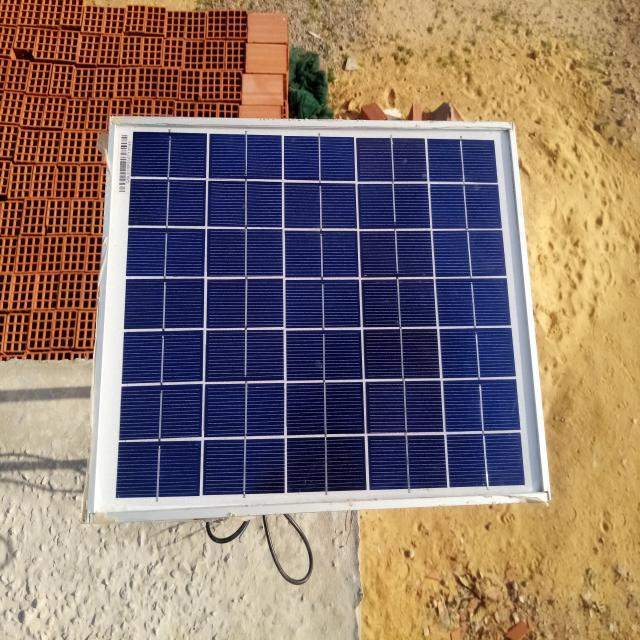no faulty: (89, 121, 548, 521)
